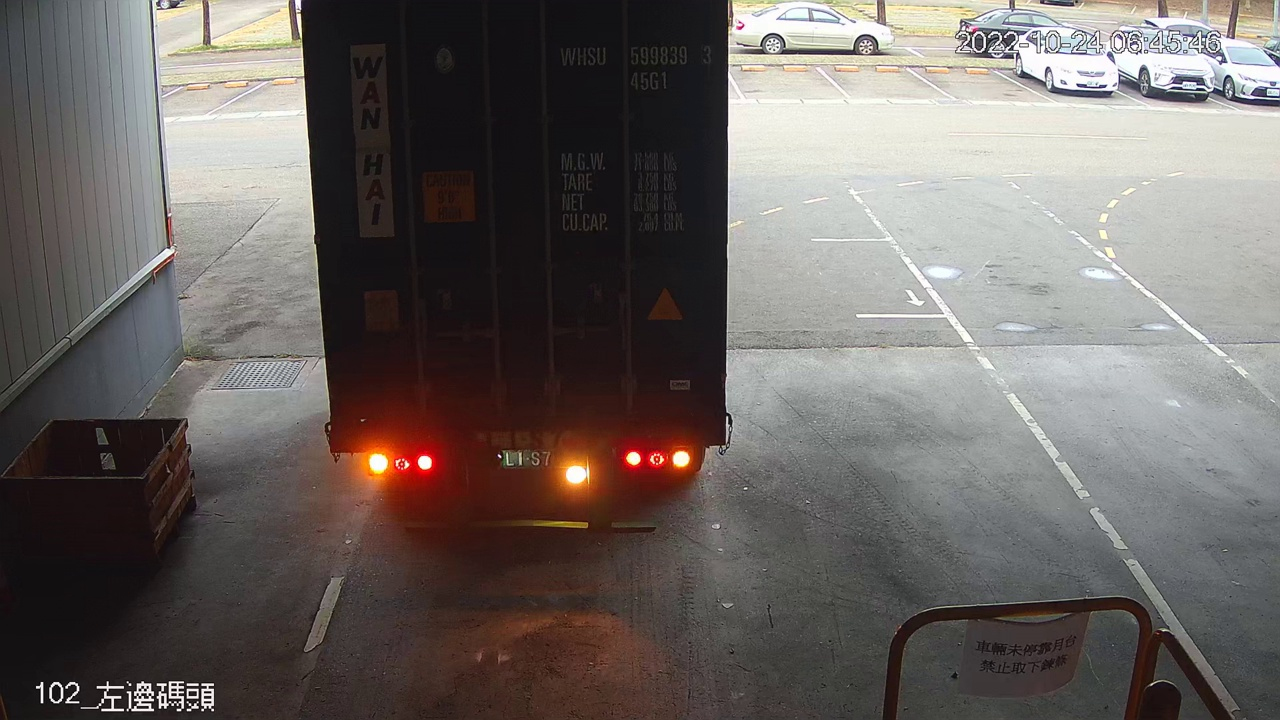container: (554, 35, 719, 98)
